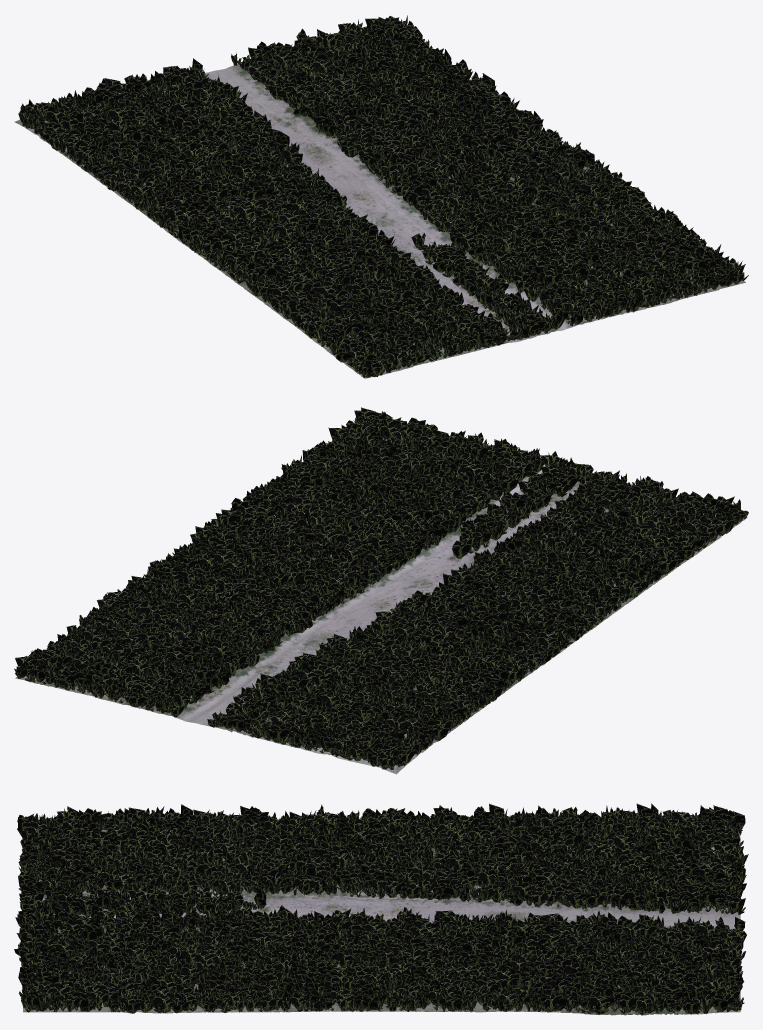
The model's file is home-travessia.glb.
3 views of the same model, one above another, from view 1: azimuth 30°, elevation 25°; view 2: azimuth 150°, elevation 25°; view 3: azimuth 270°, elevation 25° (orthographic). The views are drawn at different scales.
Parts seen in each view (by area): view 1: Forest001, cesticka_01; view 2: Forest001, cesticka_01; view 3: Forest001, cesticka_01, Forest002.
Boxes of the visible parts, left/top/right/bottom form: Forest001: left=18, top=15, right=748, bottom=377; cesticka_01: left=14, top=40, right=745, bottom=378; Forest001: left=14, top=407, right=748, bottom=769; cesticka_01: left=15, top=438, right=747, bottom=774; Forest001: left=14, top=803, right=748, bottom=1015; cesticka_01: left=23, top=827, right=740, bottom=1015; Forest002: left=44, top=885, right=724, bottom=931.
Size of the model in its own units: 2671 by 172 by 4183.
3 materials, 3 textured.
